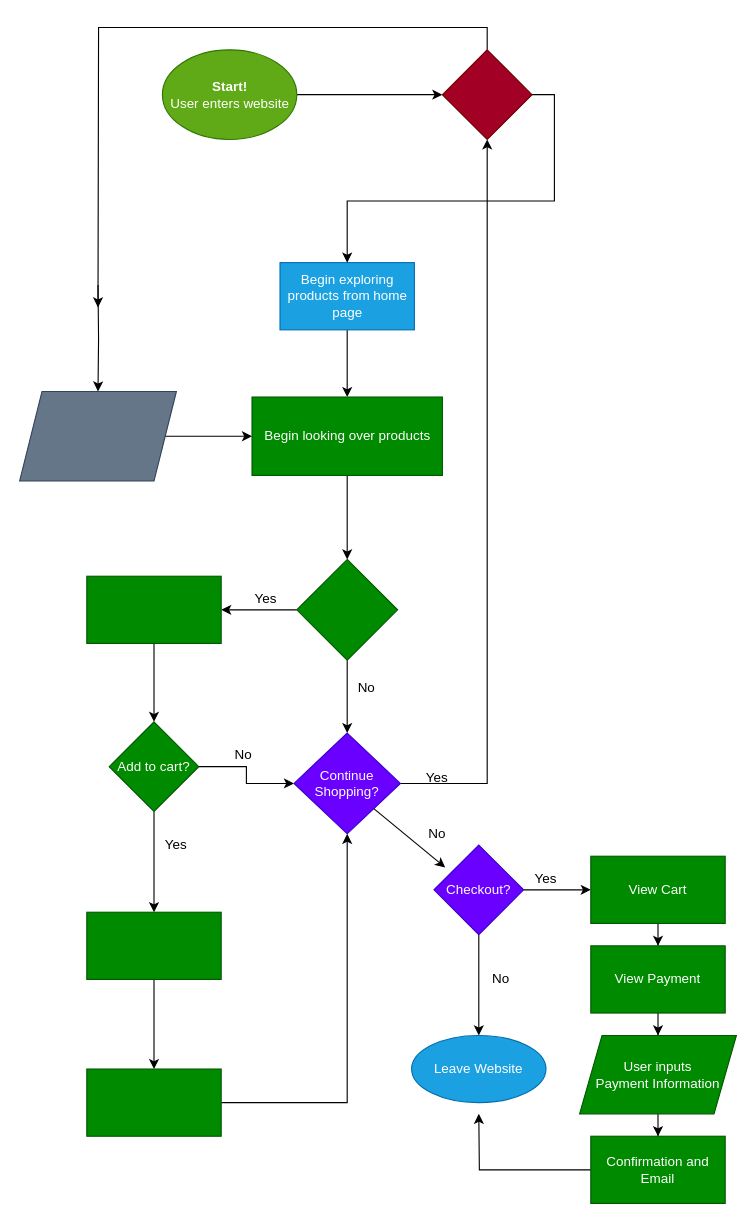
The diagram is 756 pixels wide and 1223 high, and some of its shapes have lost their labels. Here are the shapes that lost their labels. From the top down, the box of each, then its label:
(441, 49, 532, 139): Search or Explore
(18, 390, 176, 481): User provides input to search for item
(86, 575, 221, 643): Go to product webpage
(296, 558, 398, 660): View a specific product?
(86, 911, 221, 979): Cart Confirmation
(86, 1068, 221, 1136): Add Item to Cart
